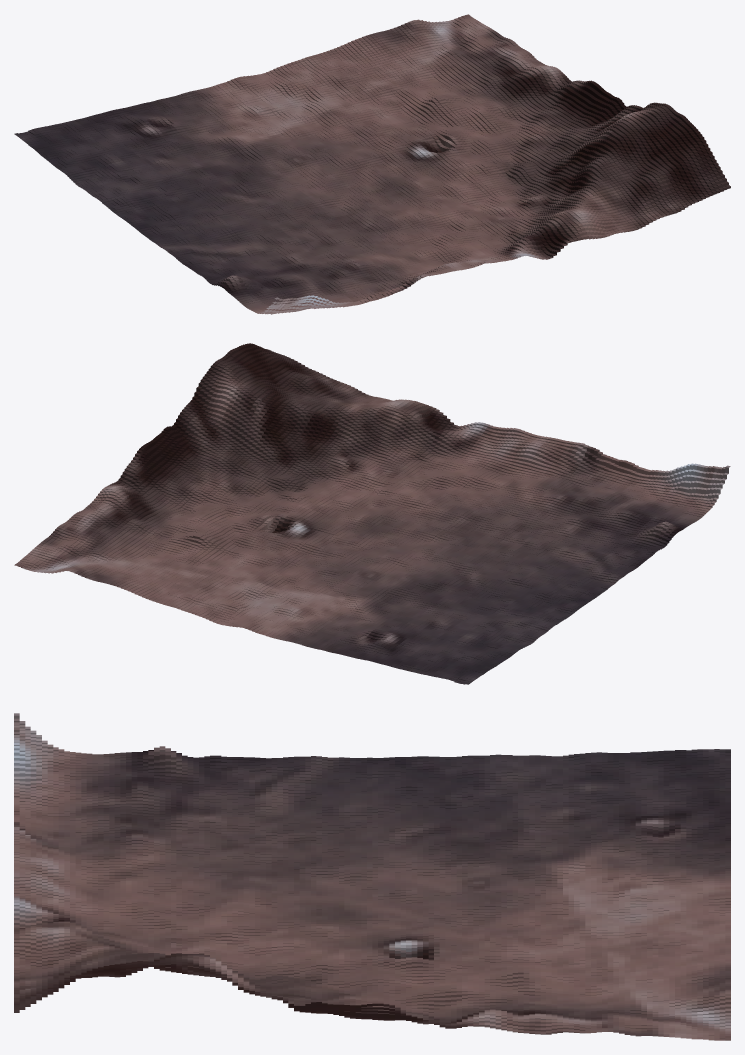
The model's file is chunk-12.glb.
The picture shows the model from 3 angles, top to bottom: view 1: azimuth 30°, elevation 25°; view 2: azimuth 150°, elevation 25°; view 3: azimuth 270°, elevation 25°; orthographic projection. The views are drawn at different scales.
Visible parts, largest first — view 1: Mesh_0.028; view 2: Mesh_0.028; view 3: Mesh_0.028.
Part boxes in pixels (bbox=[...]): Mesh_0.028: bbox=[14, 14, 730, 314]; Mesh_0.028: bbox=[14, 343, 730, 684]; Mesh_0.028: bbox=[14, 713, 730, 1040].
Bounding box in the file's own units: 32000 × 5190 × 32000.
